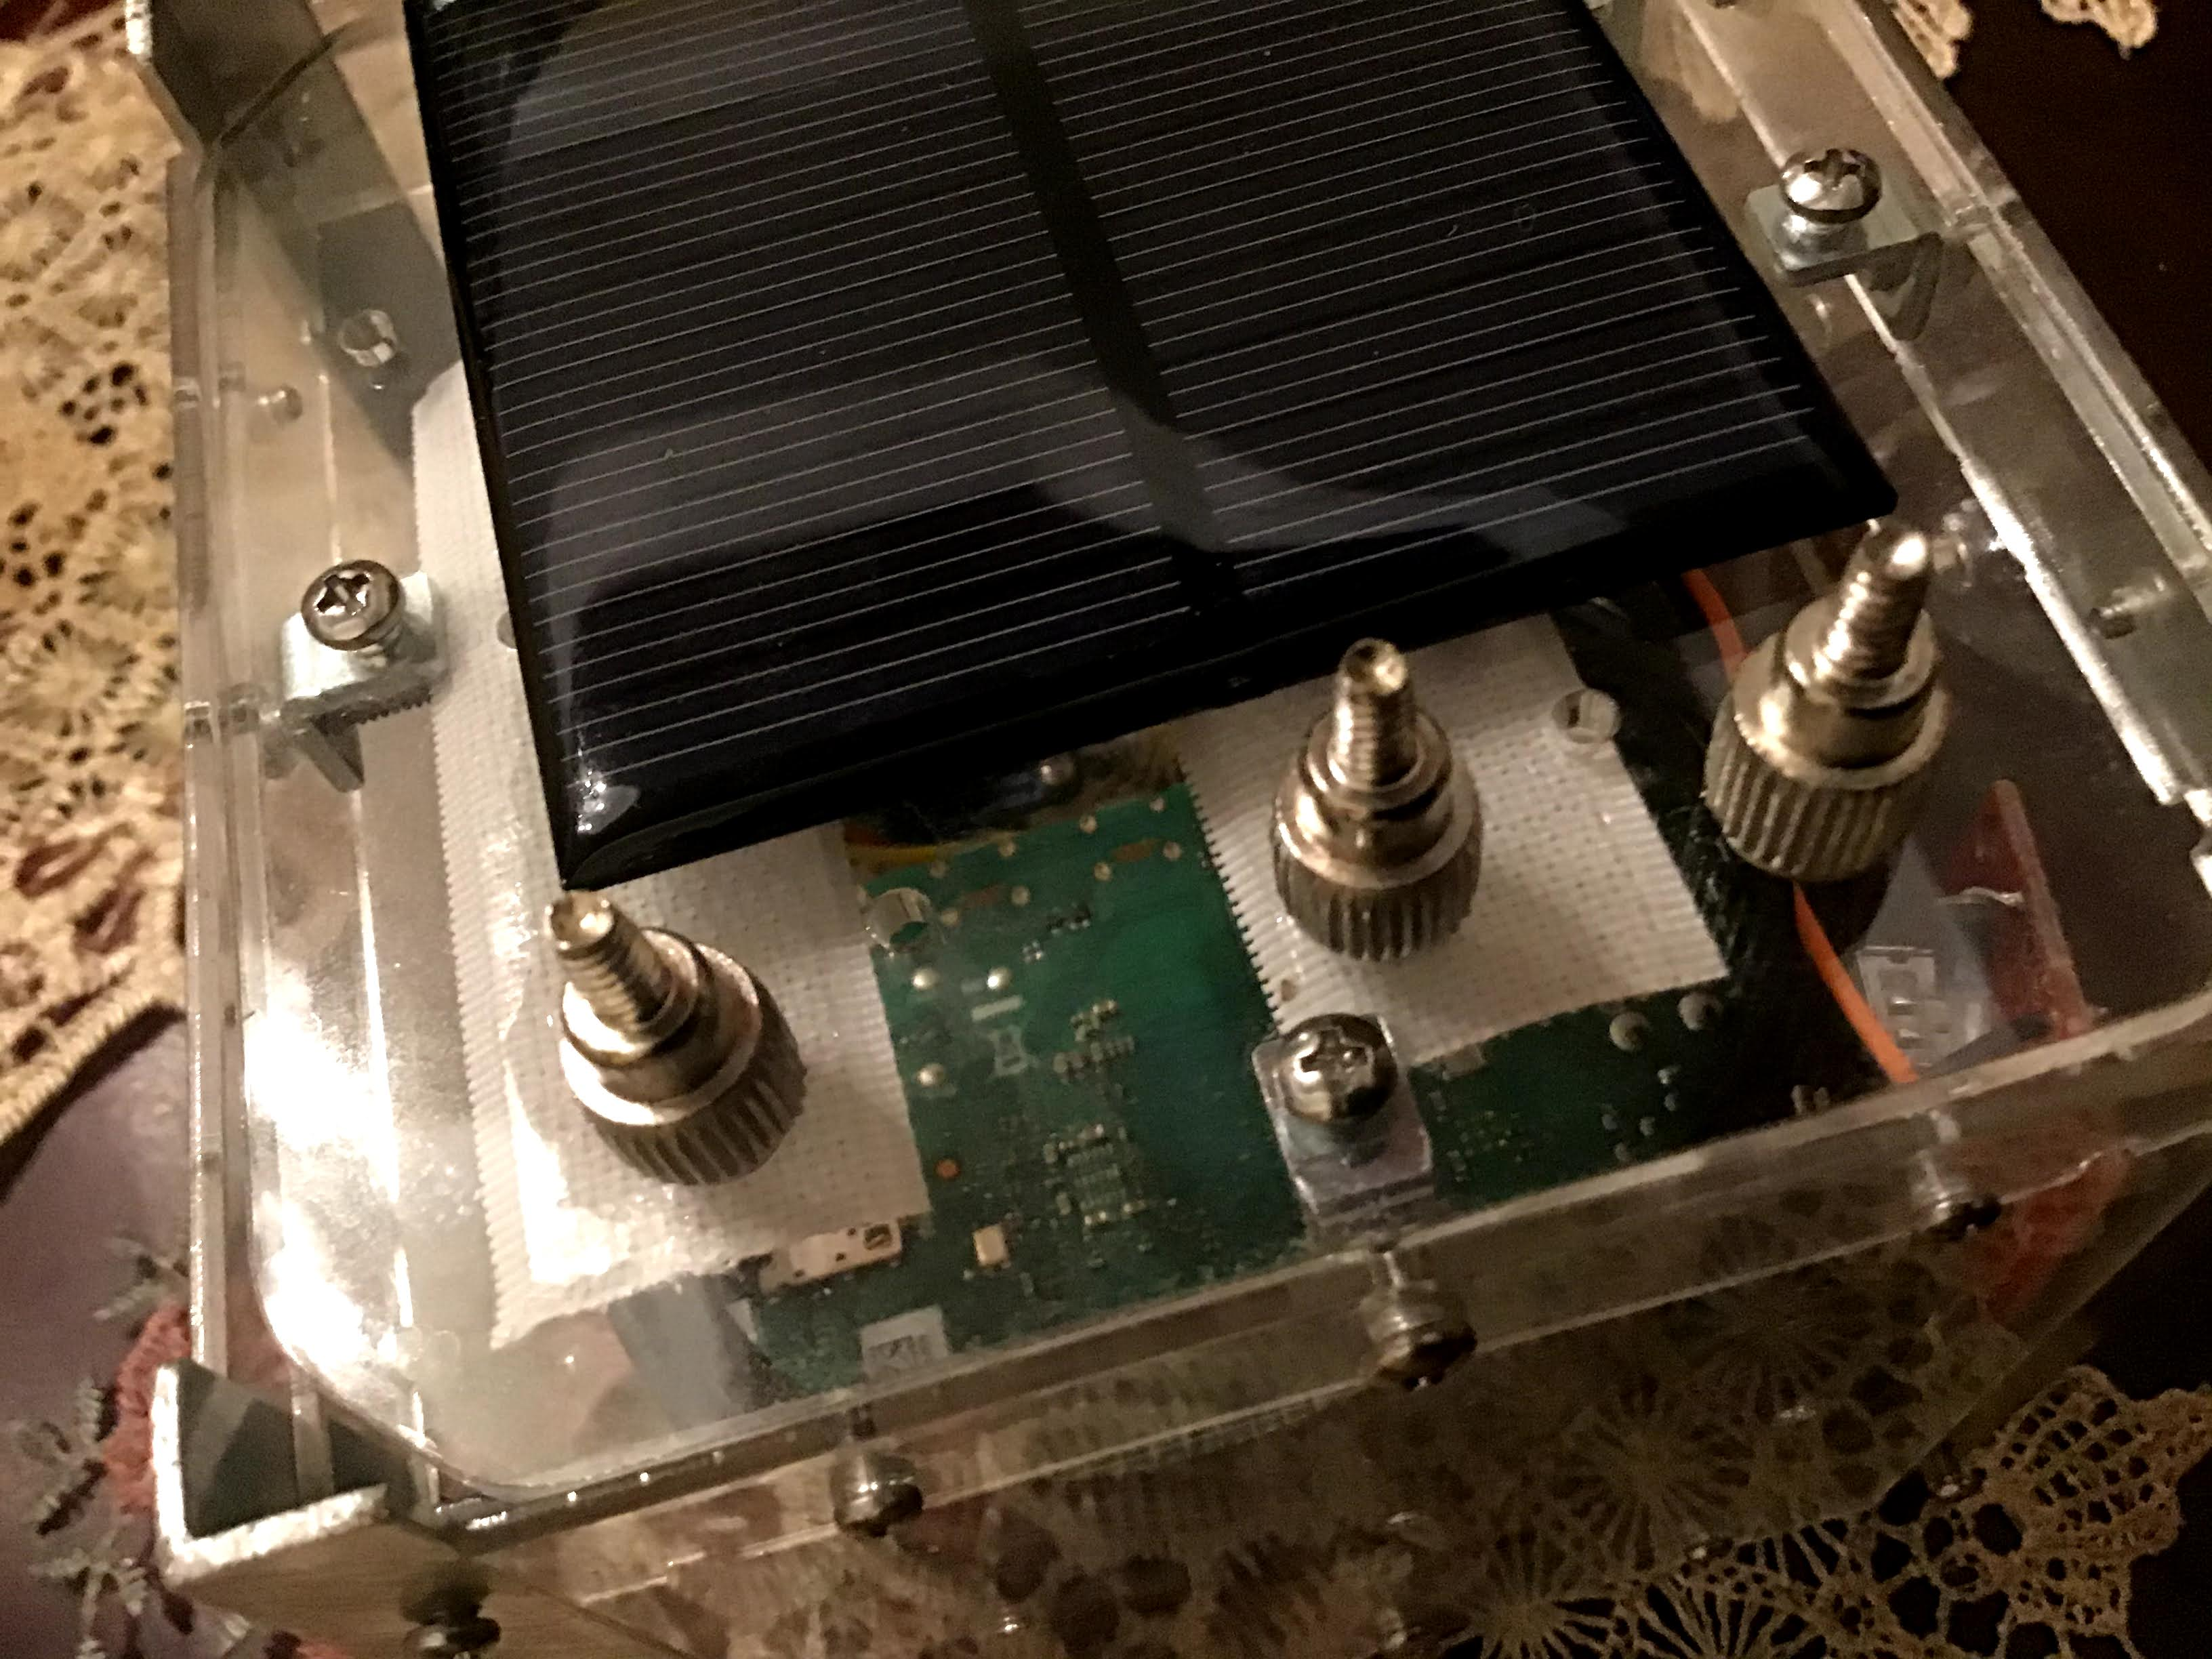Space-debris-cubesat: (99, 0, 2184, 1628)
Space-debris-small: (1195, 622, 1552, 999), (1665, 532, 2015, 908), (528, 901, 859, 1202)
